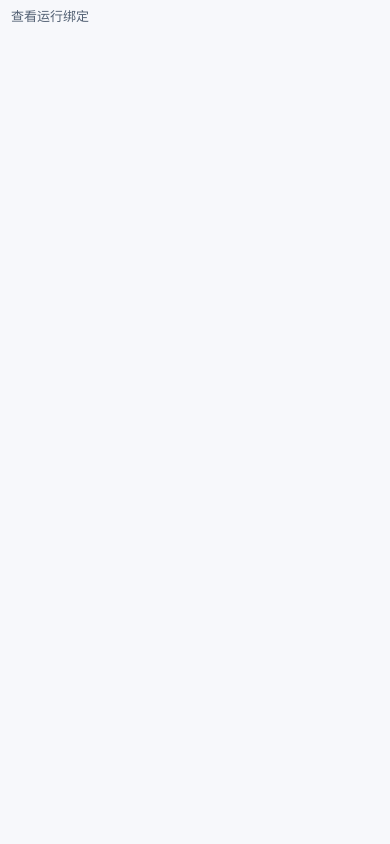
Test: RunBindingButton › shows scheduled origin in the modal
Click the button with test id "run-binding-open" at (50,16), box [0,0,100,32]
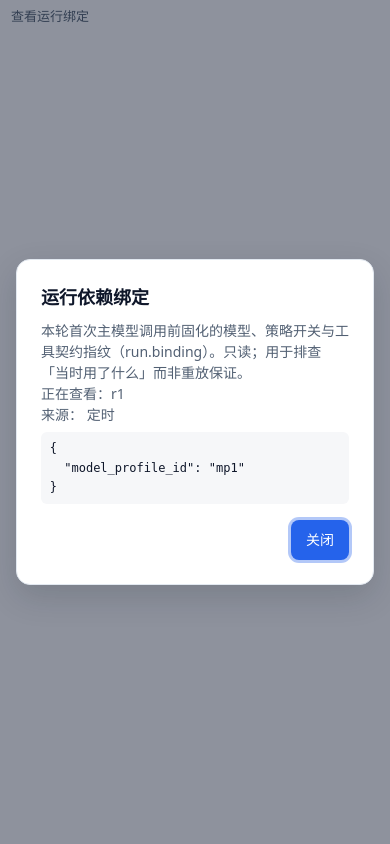
Check: the text with test id "run-binding-origin" shows "定时", box [87,405,115,424]
